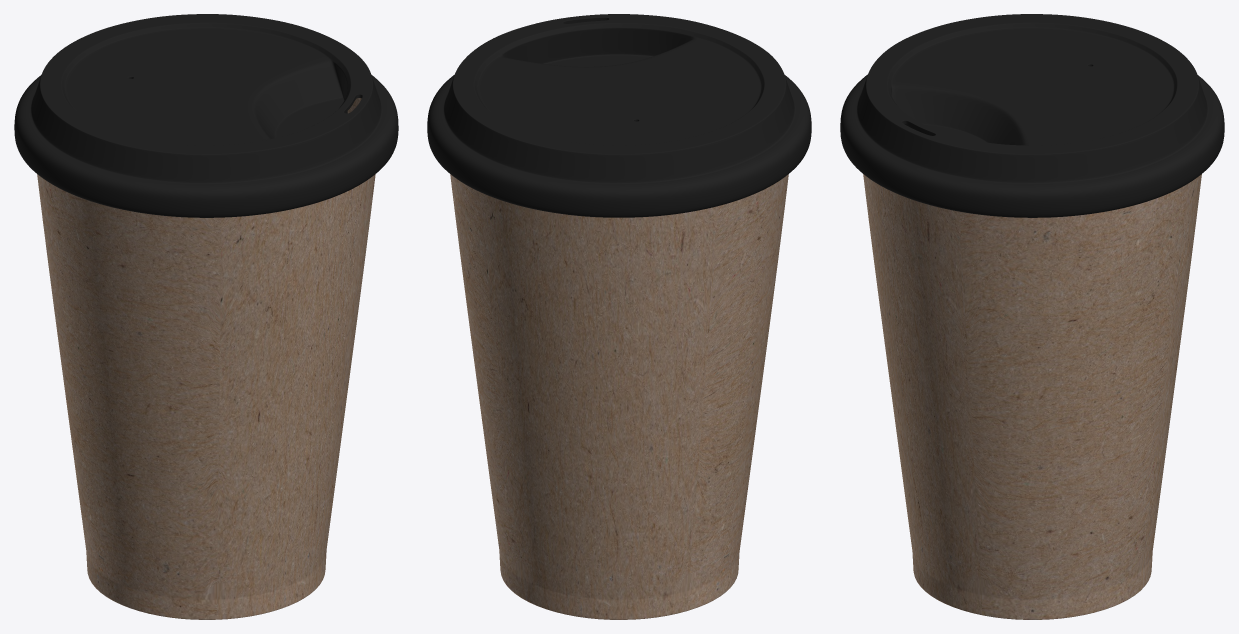
Rendered from cup_1.glb.
3 views of the same model, side by side, from view 1: azimuth 30°, elevation 25°; view 2: azimuth 150°, elevation 25°; view 3: azimuth 270°, elevation 25° (orthographic).
Visible parts, largest first — view 1: coffee_with_sugar; view 2: coffee_with_sugar; view 3: coffee_with_sugar.
Part boxes in pixels (box(x1,y1,x2,y2)): coffee_with_sugar: box(14, 14, 398, 619); coffee_with_sugar: box(427, 14, 811, 619); coffee_with_sugar: box(840, 14, 1224, 619).
Bounding box in the file's own units: 0.0841 × 0.1173 × 0.0841.
Materials: 2 (1 with a texture image).
